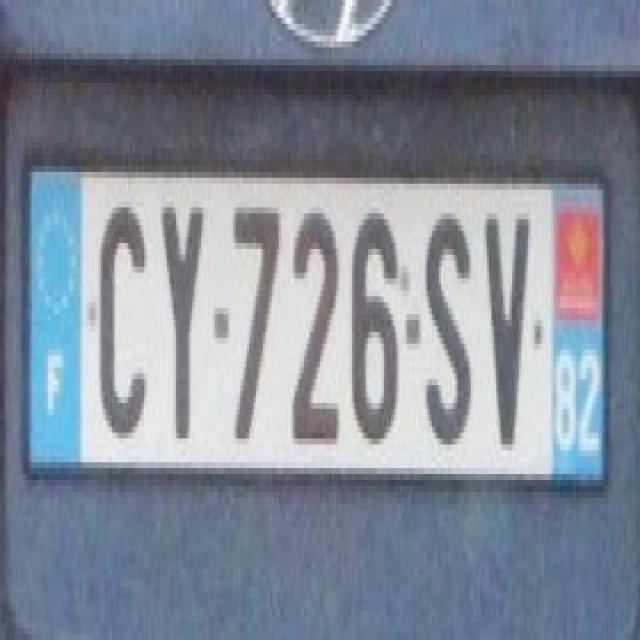EU: (23, 176, 606, 488)
France: (24, 170, 81, 473)
